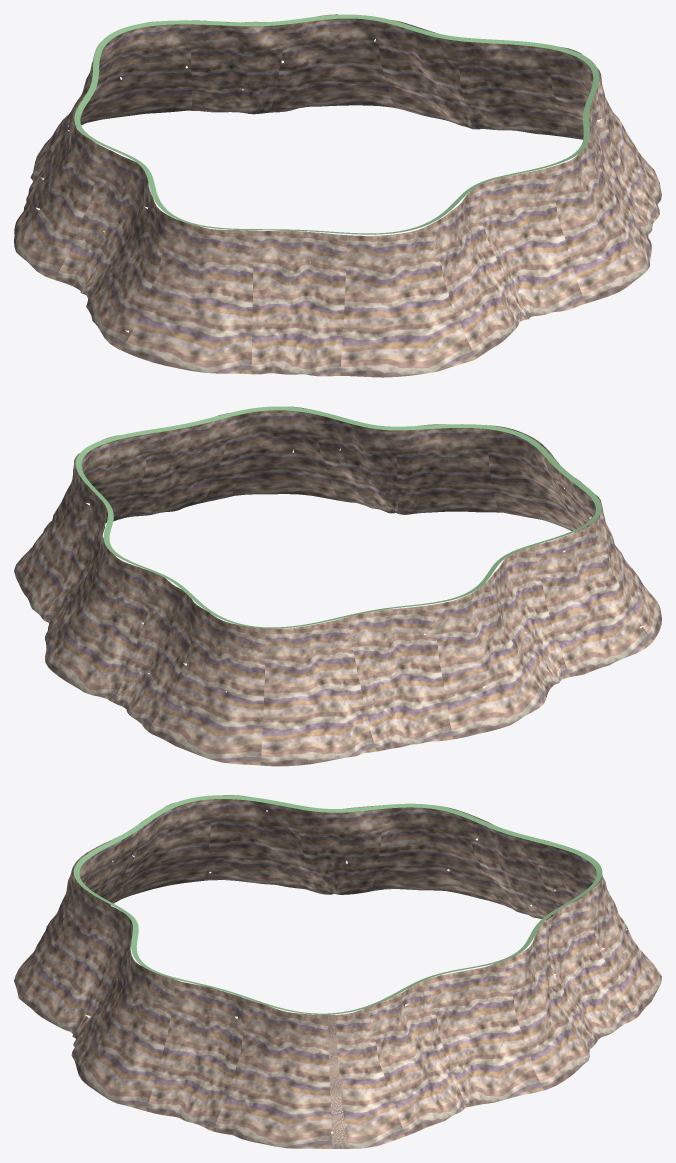
The model's file is CliffWall_plateau_B25.glb.
3 renders of one model, top to bottom at view 1: azimuth 30°, elevation 25°; view 2: azimuth 150°, elevation 25°; view 3: azimuth 270°, elevation 25°, orthographic. The views are drawn at different scales.
Parts seen in each view (by area): view 1: CliffWall_plateau_B25-rock0, CliffWall_plateau_B25-lip0; view 2: CliffWall_plateau_B25-rock0, CliffWall_plateau_B25-lip0; view 3: CliffWall_plateau_B25-rock0, CliffWall_plateau_B25-lip0.
Boxes of the visible parts, x1,y1,x2,y2 form: CliffWall_plateau_B25-rock0: [14, 14, 661, 377]; CliffWall_plateau_B25-lip0: [74, 14, 599, 234]; CliffWall_plateau_B25-rock0: [14, 406, 661, 766]; CliffWall_plateau_B25-lip0: [75, 406, 601, 628]; CliffWall_plateau_B25-rock0: [14, 795, 661, 1148]; CliffWall_plateau_B25-lip0: [73, 795, 602, 1014].
Size of the model in its own units: 645 by 124 by 657.
Materials: 4 (1 with a texture image).
